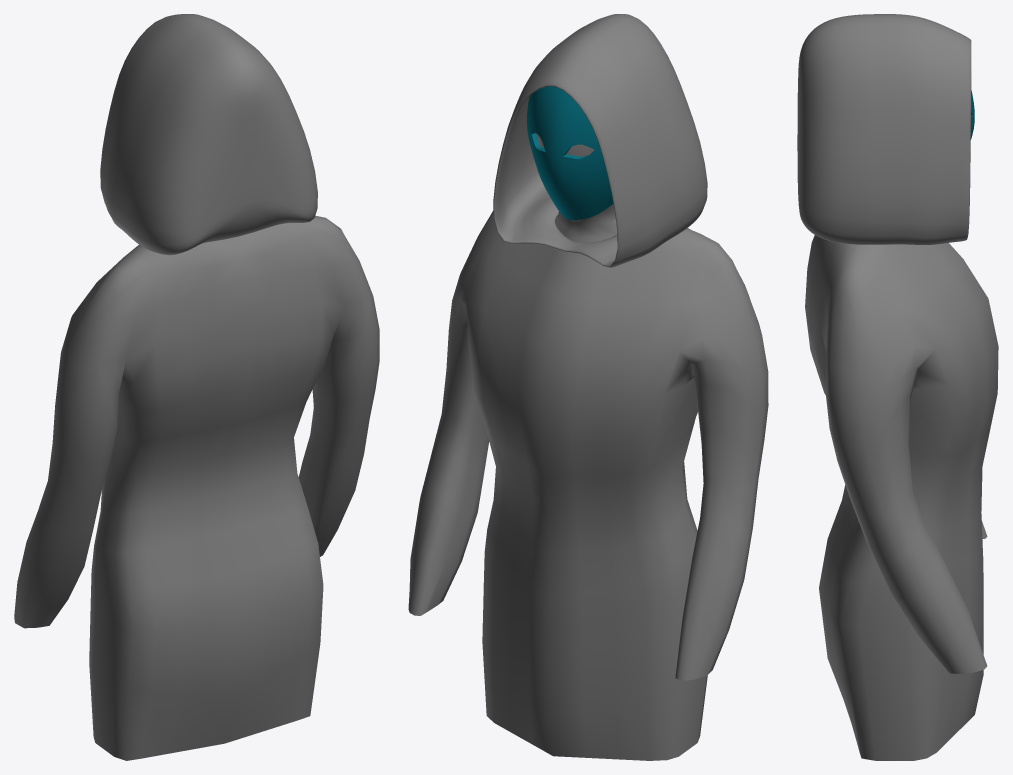
Rendered from HumanWalduś.fbx.
3 renders of one model, left to right at view 1: azimuth 30°, elevation 25°; view 2: azimuth 150°, elevation 25°; view 3: azimuth 270°, elevation 25°, orthographic.
Visible parts, largest first — view 1: Walduś, Hood; view 2: Walduś, Hood, Mask; view 3: Walduś, Hood.
Part boxes in pixels (<box>): Walduś: <box>14,216,379,760</box>; Hood: <box>100,14,317,255</box>; Walduś: <box>408,137,768,760</box>; Hood: <box>493,14,707,267</box>; Mask: <box>527,86,613,220</box>; Walduś: <box>805,235,998,760</box>; Hood: <box>797,14,971,244</box>.
Size of the model in its own units: 53.51 by 111 by 28.91.
